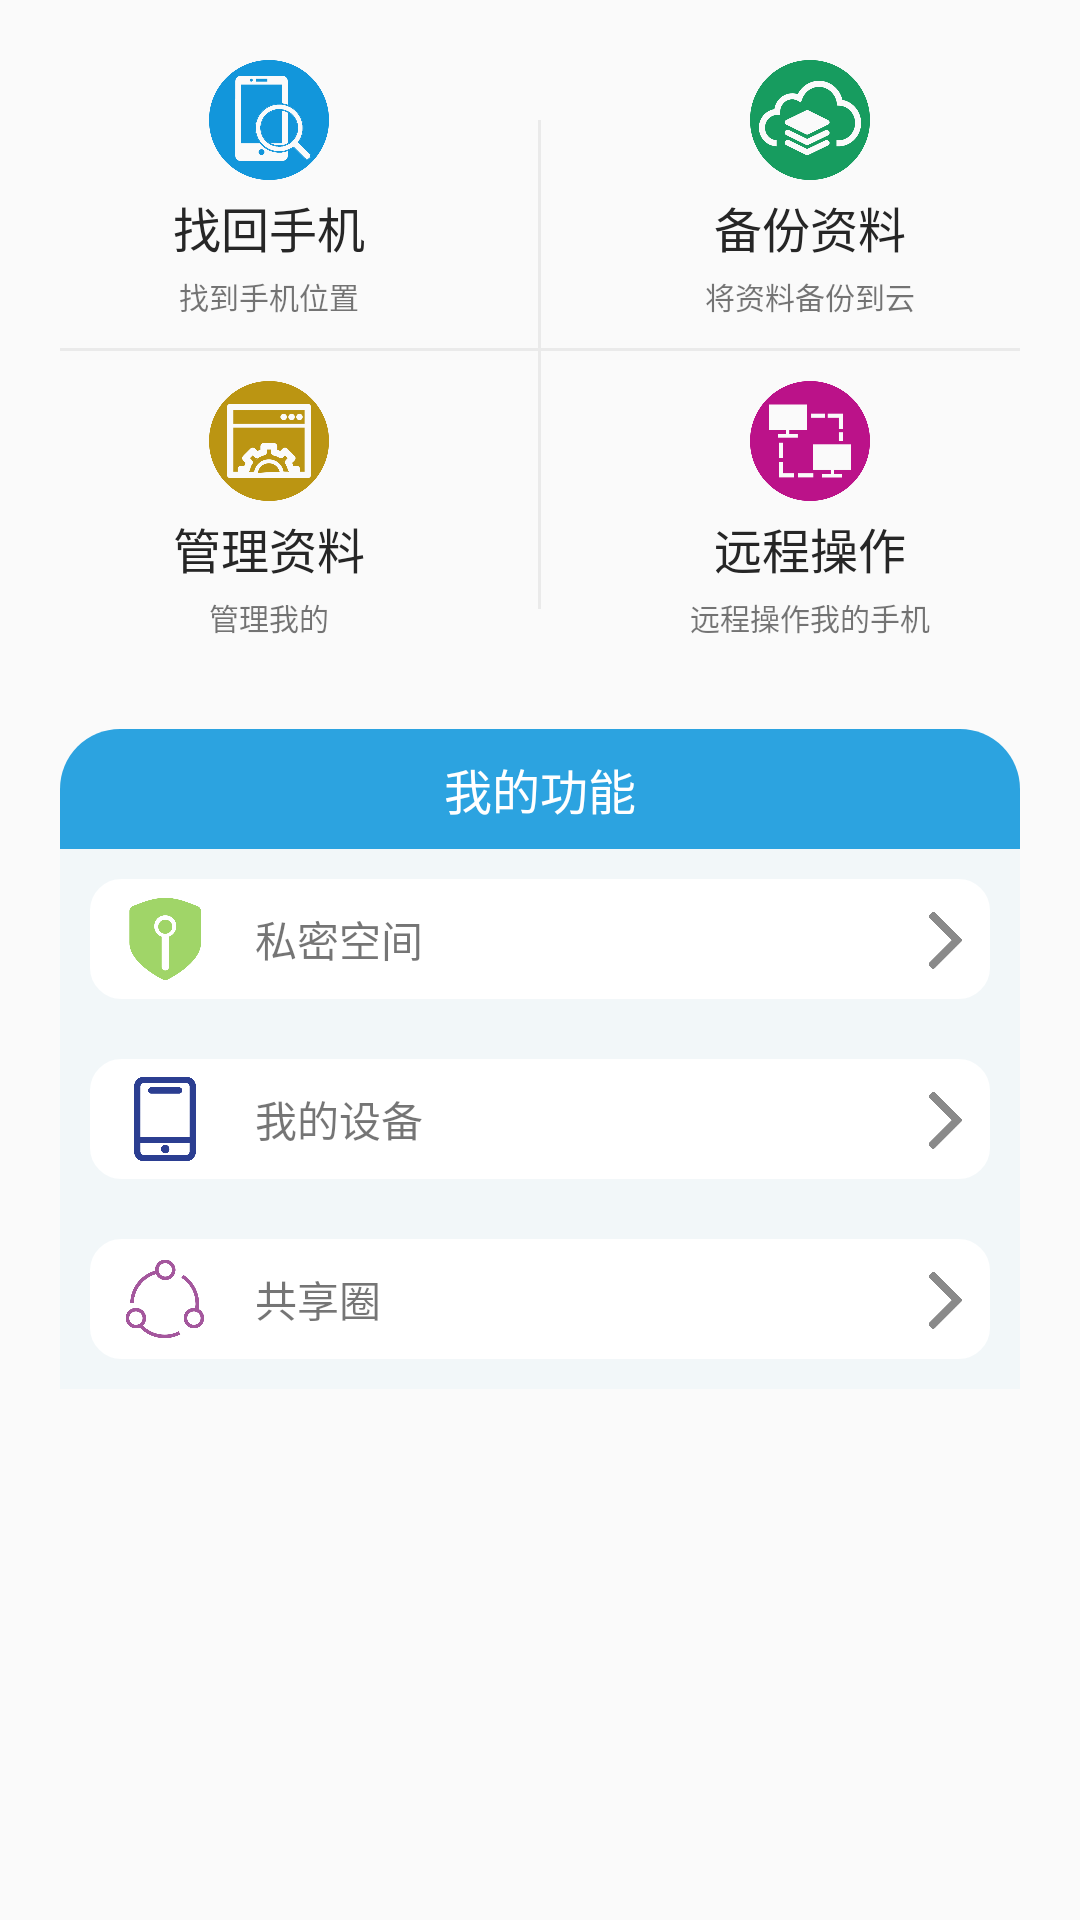

Icon bounding boxes for this 1080 × 1920 phone screenshot, format rect(x1, y1, x2, y2):
arrow right: rect(929, 912, 962, 969), rect(929, 1092, 962, 1149), rect(929, 1272, 962, 1329)
phone: rect(134, 1077, 196, 1161)
privacy: rect(129, 898, 201, 980)
share: rect(126, 1260, 204, 1338)
